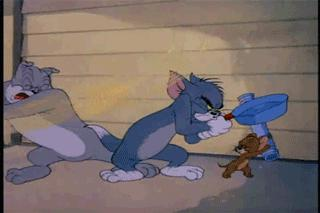tom: (81, 69, 234, 181)
